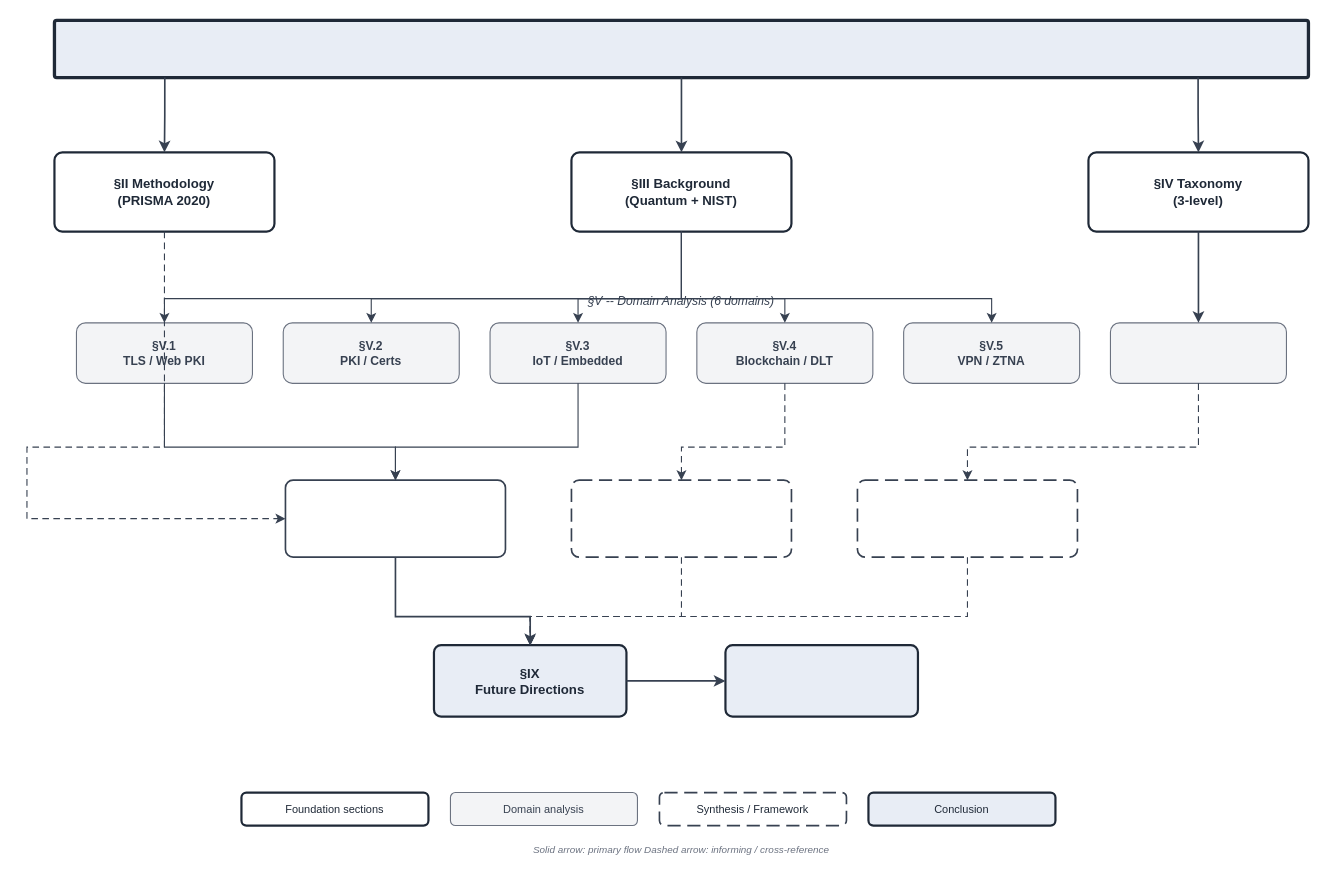
The diagram is 1329 pixels wide and 879 high, and some of its shapes have lost their labels. Here are the shapes that lost their labels. From the top down, the centre of each, then its label:
the point at 681,48: PQC Migration Survey -- Paper Structure Overview
the point at 1197,352: §V.6 ICS / OT
the point at 395,518: §VI MRC Framework (Quantitative)
the point at 681,518: §VII Regulatory Landscape
the point at 967,518: §VIII Open Challenges
the point at 821,680: §X Conclusion
